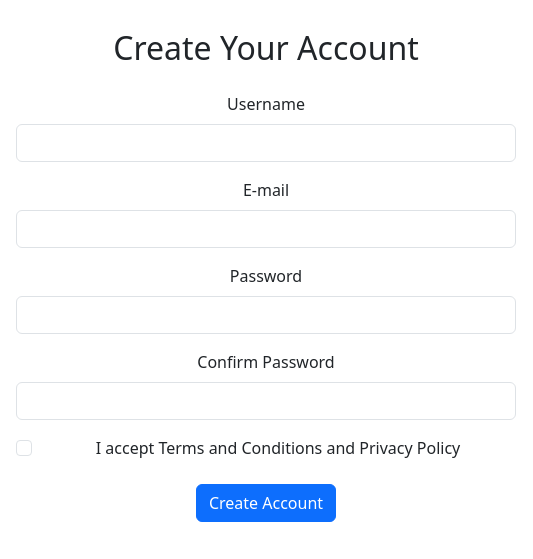
it: RegisterPage › shows error when passwords do not match
The image size is (533, 559).
Type "testuser" into the field labelled "Username" at x=266, y=143, box x1=16 y1=124 x2=516 y2=162
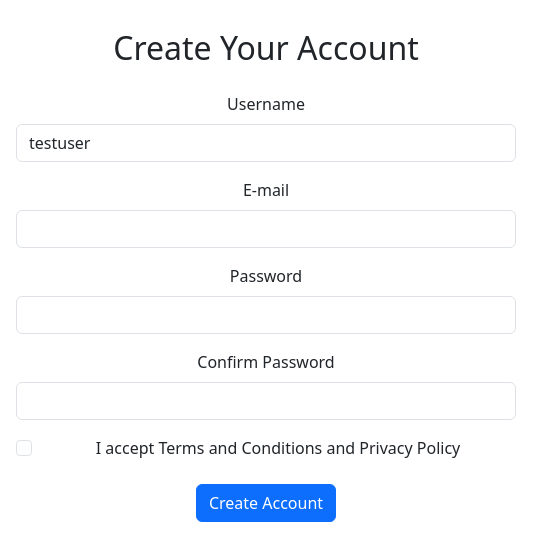
Type "test@example.com" into the field labelled "E-mail" at x=266, y=229, box x1=16 y1=210 x2=516 y2=248
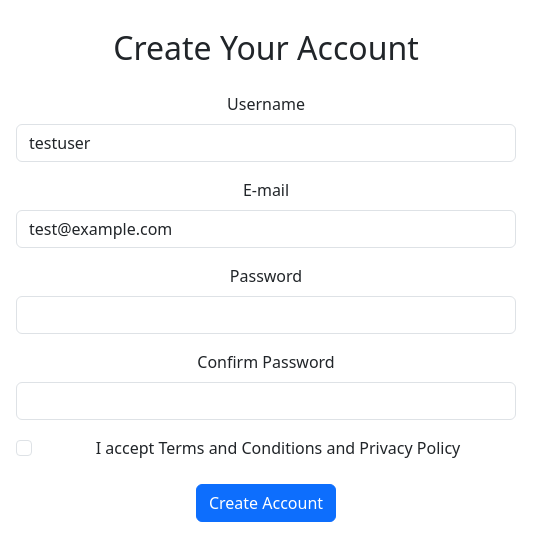
Type "123456" into the password field labelled "Password" at x=266, y=315, box x1=16 y1=296 x2=516 y2=334
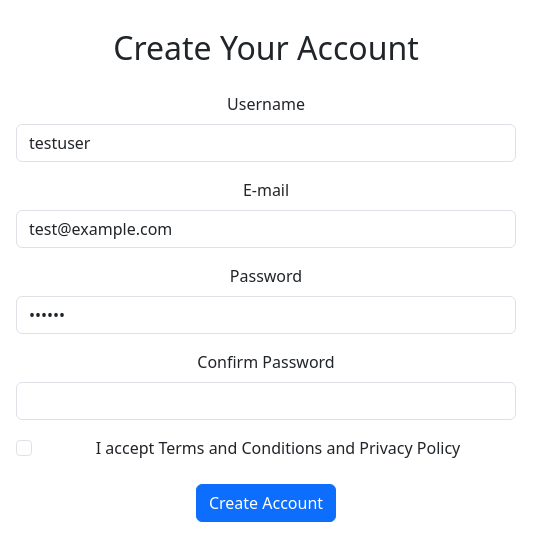
Type "abcdef" into the password field labelled "Confirm Password" at x=266, y=401, box x1=16 y1=382 x2=516 y2=420
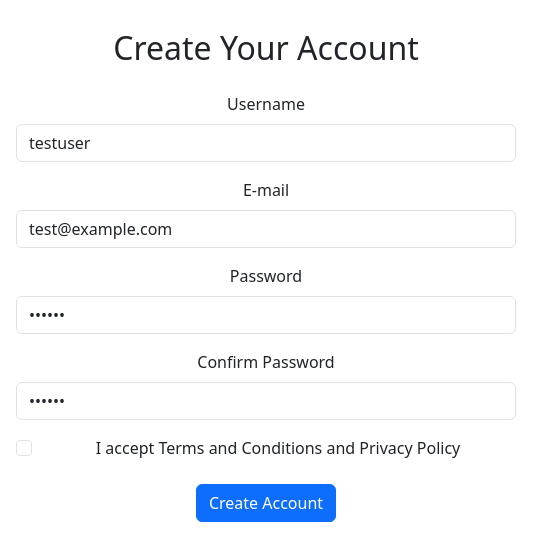
Click the button "Create Account" at x=266, y=503, box x1=196 y1=484 x2=336 y2=522
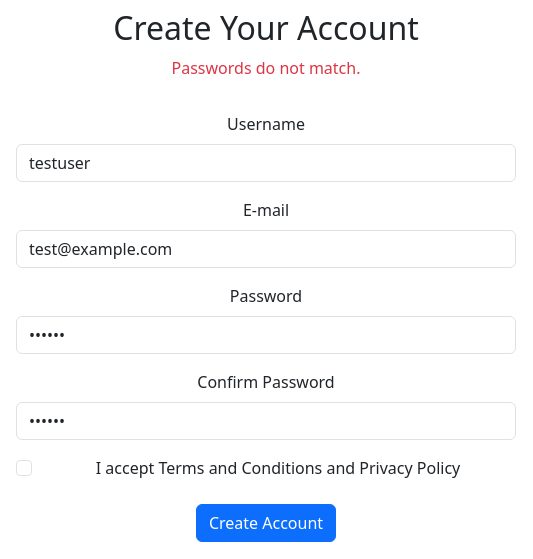
Expected: the text "Passwords do not match." is shown, x1=172 y1=57 x2=360 y2=79
